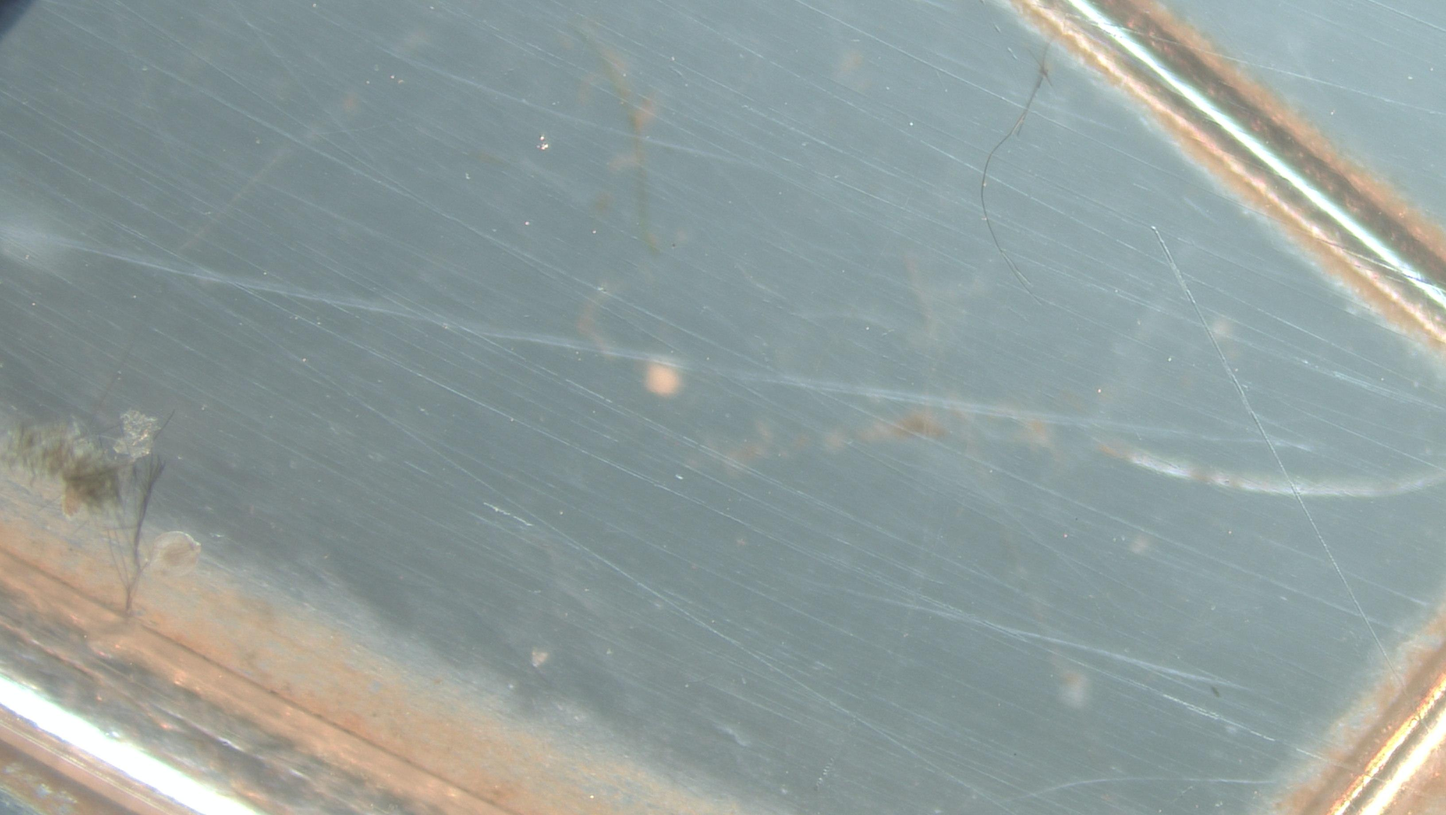live: (149, 532, 202, 575)
